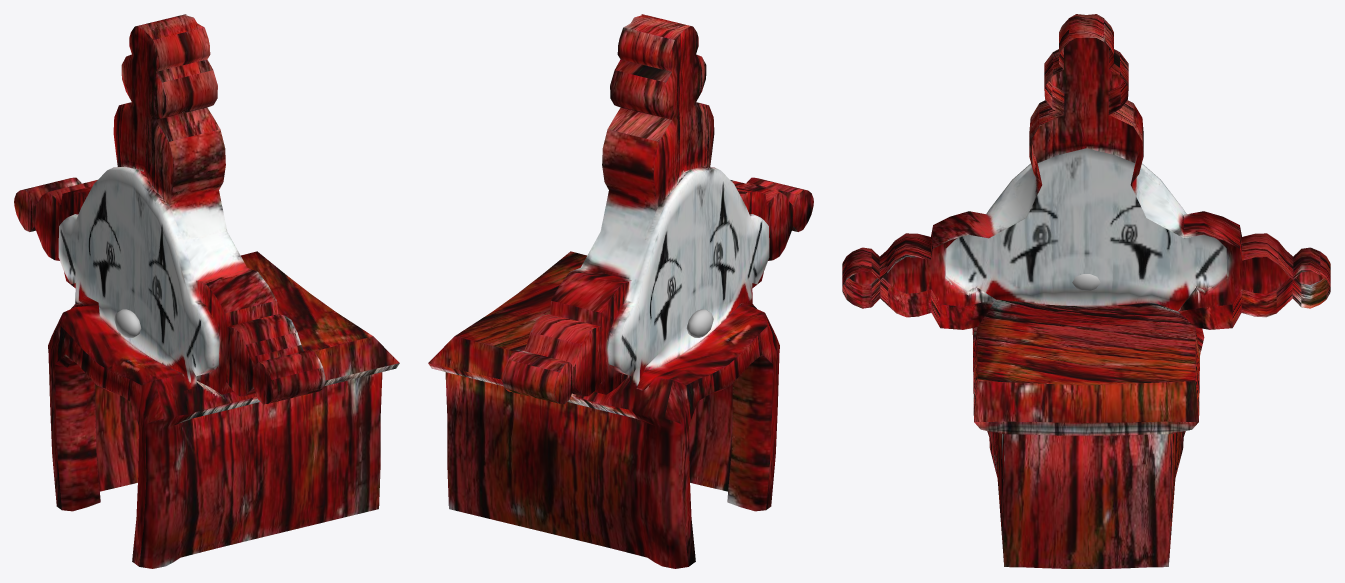
File: clown.fbx
3 renders of one model, left to right at view 1: azimuth 30°, elevation 25°; view 2: azimuth 150°, elevation 25°; view 3: azimuth 270°, elevation 25°, orthographic. The views are drawn at different scales.
Parts seen in each view (by area): view 1: Cube; view 2: Cube; view 3: Cube.
Boxes of the visible parts, x1,y1,x2,y2 form: Cube: (14,14,399,568); Cube: (428,14,813,568); Cube: (842,14,1330,568).
Bounding box in the file's own units: 1132 × 2136 × 2023.
